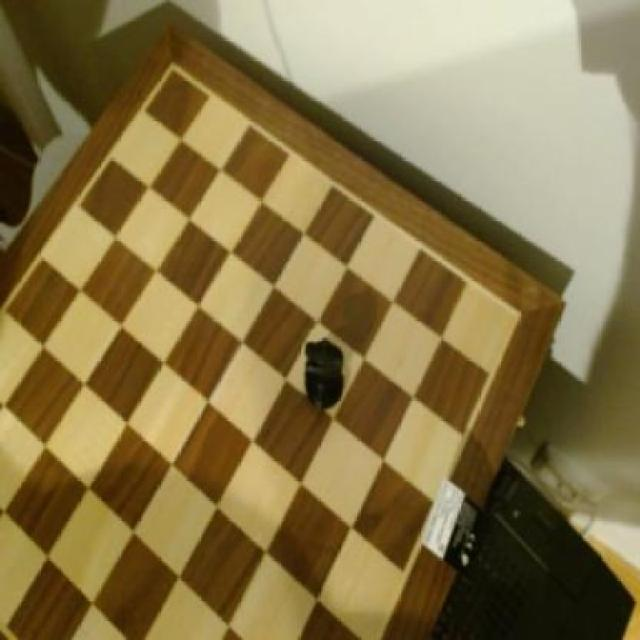black-king: (302, 331, 350, 422)
